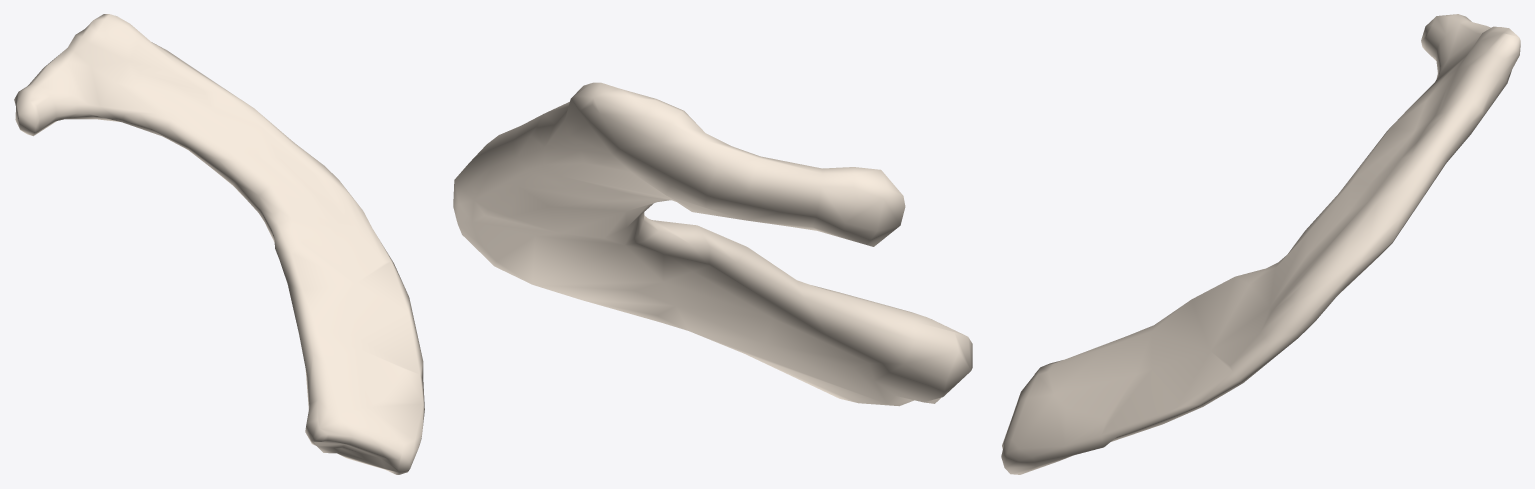
The model's file is left_rib_1.glb.
3 views of the same model, side by side, from view 1: azimuth 30°, elevation 25°; view 2: azimuth 150°, elevation 25°; view 3: azimuth 270°, elevation 25° (orthographic). The views are drawn at different scales.
Visible parts, largest first — view 1: Rib (1st).r; view 2: Rib (1st).r; view 3: Rib (1st).r.
Part boxes in pixels (bbox=[...]): Rib (1st).r: bbox=[14, 14, 424, 474]; Rib (1st).r: bbox=[453, 82, 972, 406]; Rib (1st).r: bbox=[1001, 14, 1520, 474].
Bounding box in the file's own units: 0.0544 × 0.0585 × 0.0705.
